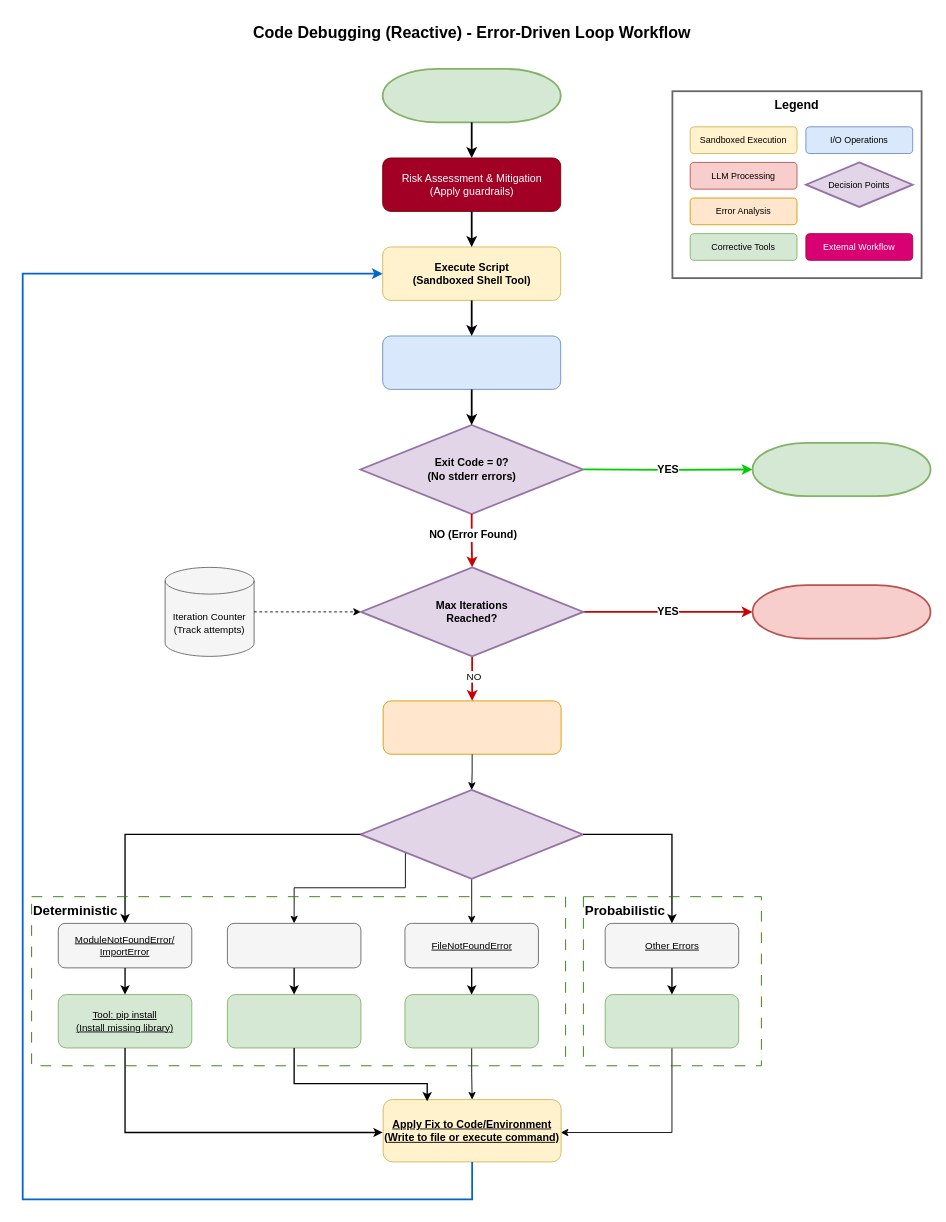
This 946x1222 diagram has some shape labels left out. The centre of each missing label's shape, as x and y in pixels:
"Capture Execution Output (stdout, stderr, exit_code)" belongs at (471,362).
"Error Classifier (Classify Error Type)" belongs at (471,834).
"FAILURE (Unable to Fix After N Attempts)" belongs at (841,611).
"File-system search or path normalization" belongs at (471,1021).
"Parse stderr Output (Extract Error Message & Traceback)" belongs at (471,727).
"START" belongs at (471,95).
"SUCCESS (Script Runs Without Errors)" belongs at (841,469).
"SyntaxError/ IndentationError" belongs at (294,945).
"Tool: Linter/Formatter (Fix syntax at line X)" belongs at (294,1021).
"Tool: LLM-Guided Fix (Custom correction)" belongs at (671,1021).
